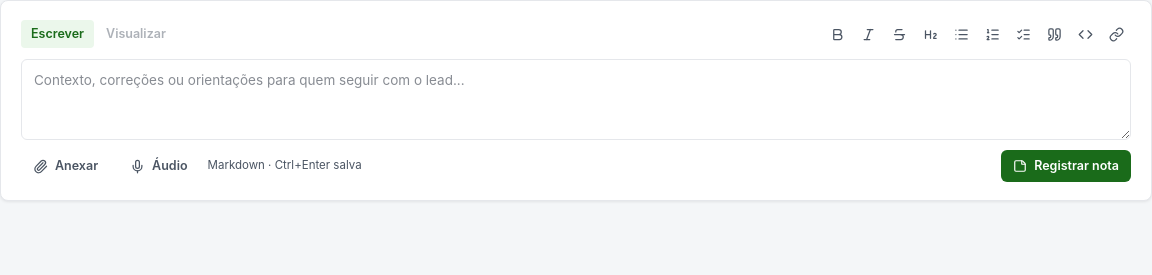
it: NoteComposer — menções › escolher pelo clique insere a menção com o uid
The width and height of the screenshot is (1152, 275).
Type "avisar @car" into the text box named "Corpo da nota".
click(576, 100); type("avisar @car")  # box [21,59,1131,140]
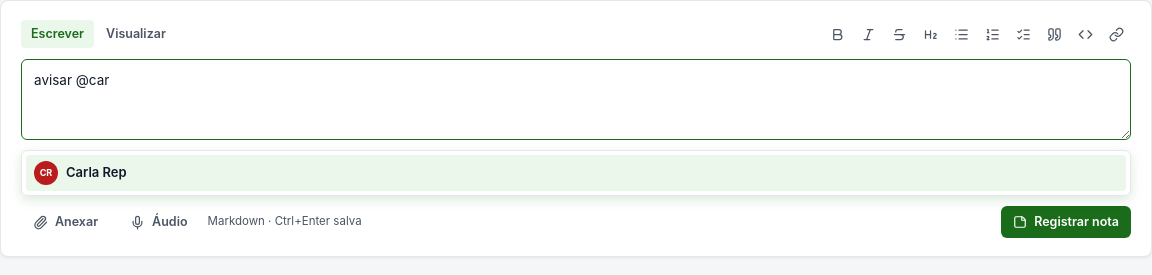
Click the option "CR Carla Rep".
click(96, 172)  # box [26,155,1126,191]
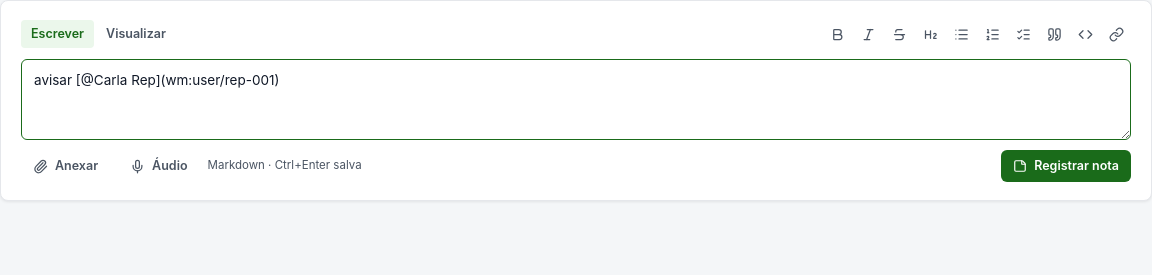
Expected: the text box named "Corpo da nota" holds "avisar [@Carla Rep](wm:user/rep-001) ", [21,59,1131,140]
Expected: the list is gone
